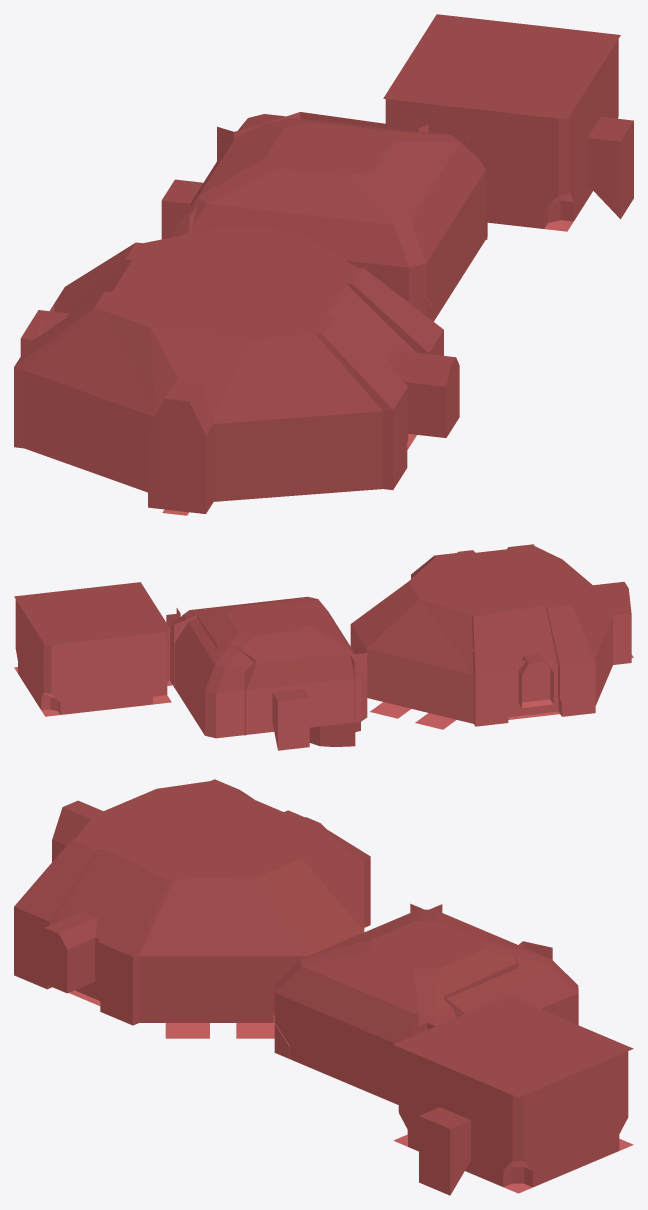
File: playroom.glb
3 renders of one model, top to bottom at view 1: azimuth 30°, elevation 25°; view 2: azimuth 150°, elevation 25°; view 3: azimuth 270°, elevation 25°, orthographic. The views are drawn at different scales.
Visible parts, largest first — view 1: playroom_col; view 2: playroom_col; view 3: playroom_col.
Part boxes in pixels (x1=…): playroom_col: x1=14, y1=14, x2=633, y2=515; playroom_col: x1=14, y1=544, x2=633, y2=750; playroom_col: x1=14, y1=779, x2=633, y2=1195.
Size of the model in its own units: 5.12 by 1.2 by 4.21.
